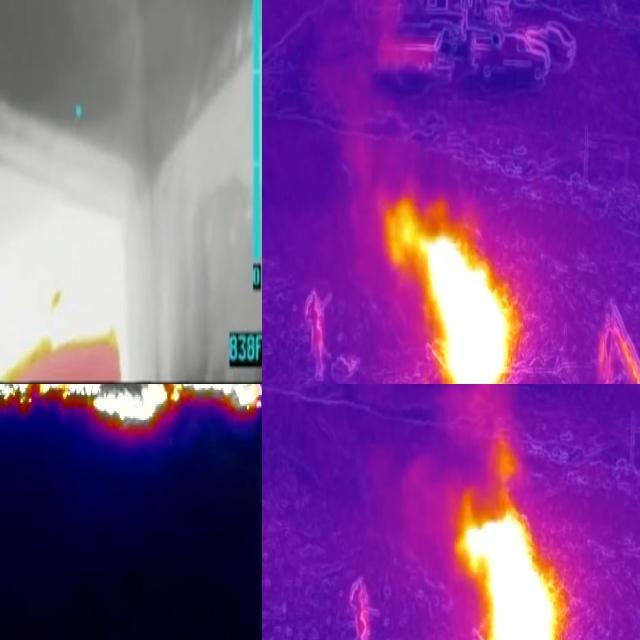fire: (391, 199, 515, 385), (463, 504, 563, 640), (1, 290, 133, 384)
